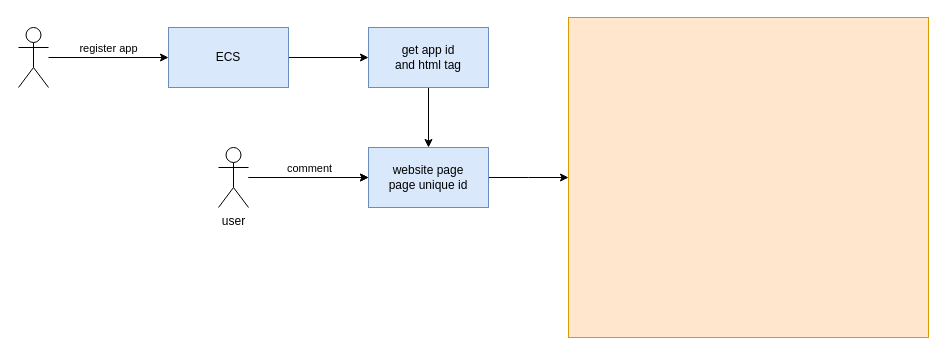
The diagram is 946 pixels wide and 355 high, and some of its shapes have lost their labels. Here are the shapes that lost their labels. From the top down, the centre of each, then its label:
At [33,57]: "owner".
At [748,177]: "POST /api/v1/{app-id}/{page-id}/comment with comment payload".
